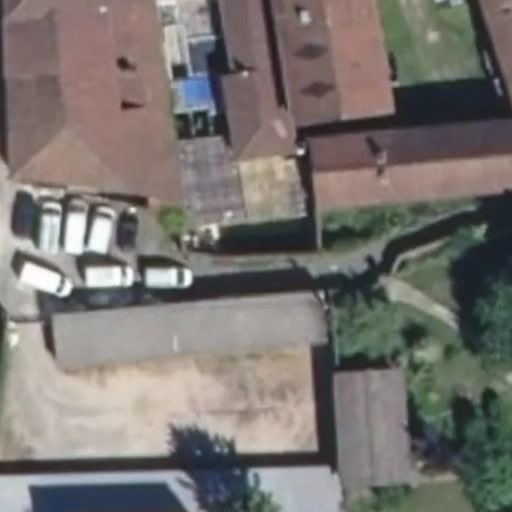pool: (179, 137, 251, 224)
